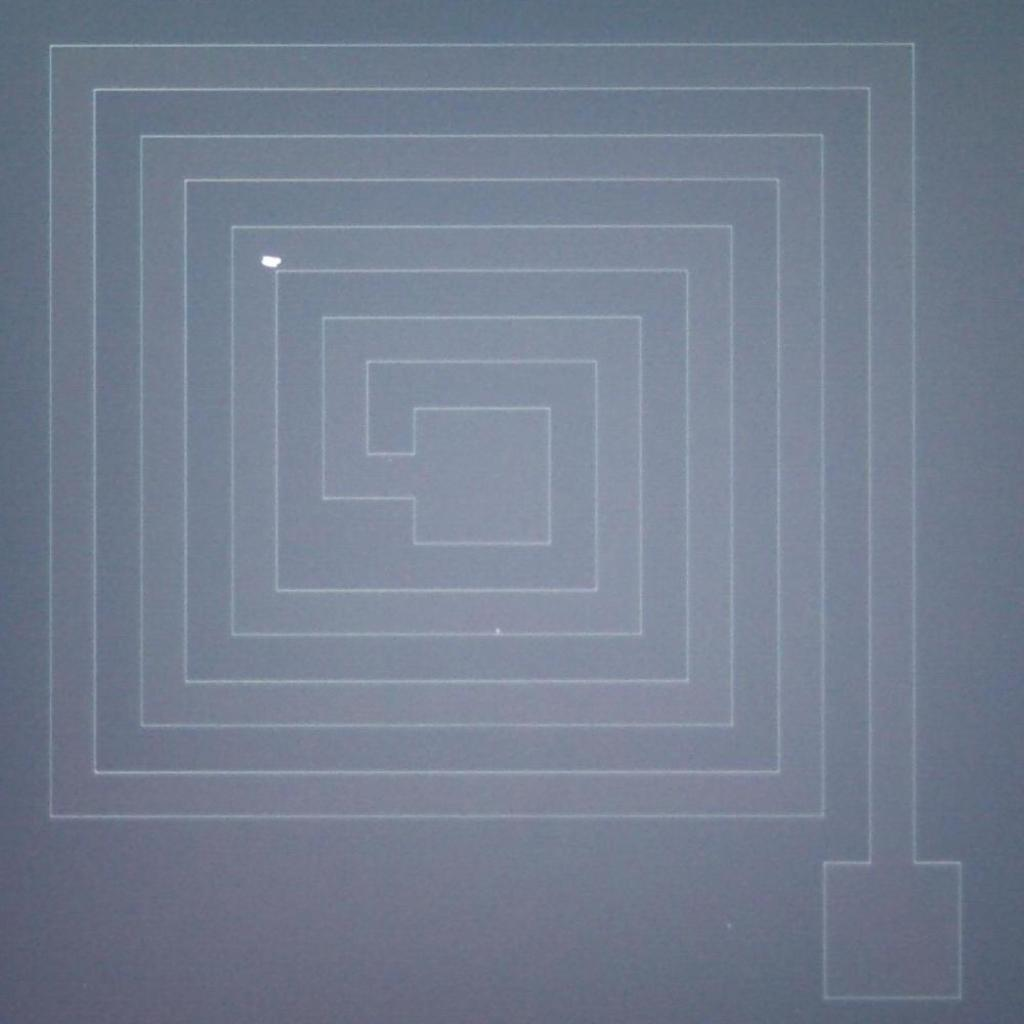spot: (252, 246, 286, 276)
